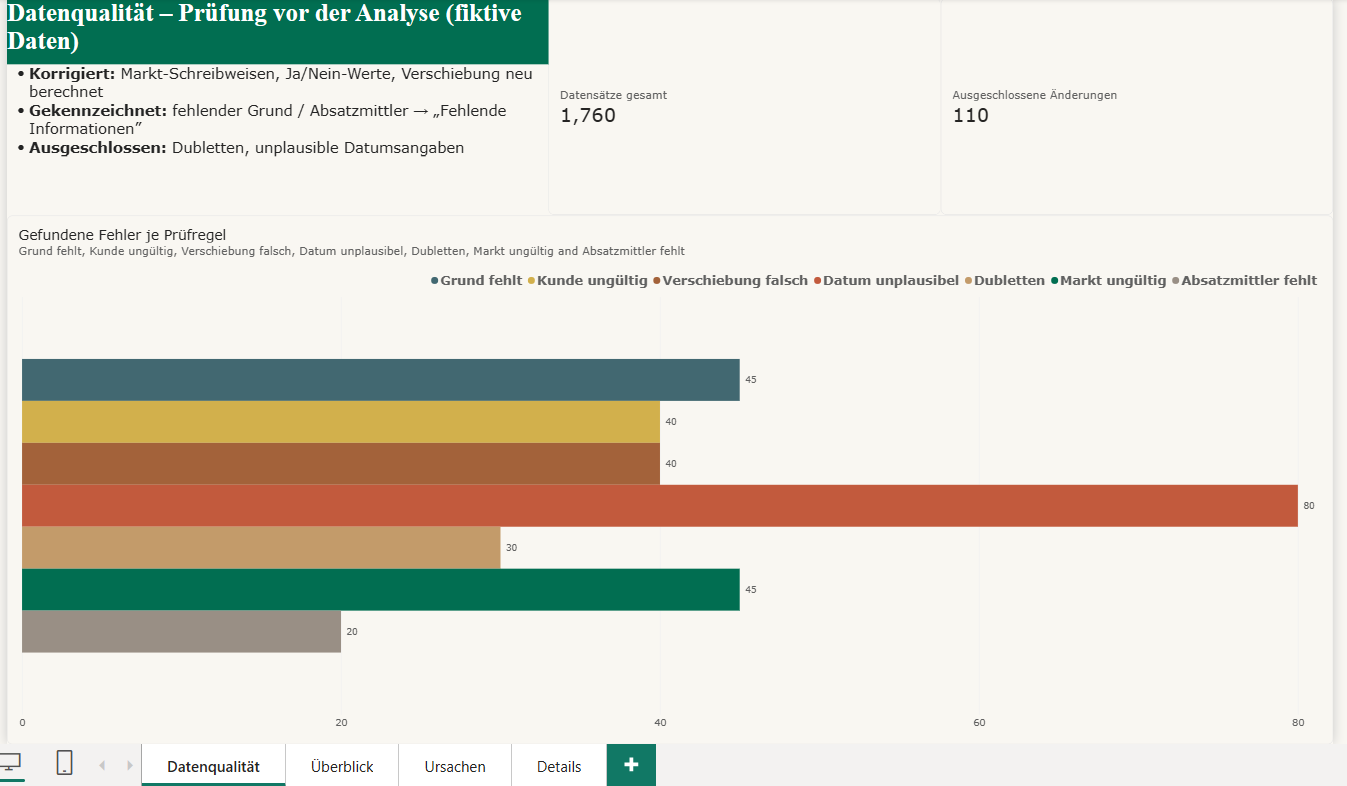

The dashboard page shown, as its layout file describes it:
{"tool":"powerbi","page":{"name":"Datenqualität","canvas":[1920,1080],"ordinal":0},"visuals":[{"type":"clusteredBarChart","title":"Gefundene Fehler je Prüfregel","fields":{"Y":["Terminaenderungen.Grund fehlt","Terminaenderungen.Kunde ungültig","Terminaenderungen.Verschiebung falsch","Terminaenderungen.Datum unplausibel","Terminaenderungen.Dubletten","Auftraege.Markt ungültig","Auftraege.Absatzmittler fehlt"]},"box":[0,314.9,1920.1,765.5],"z":0},{"type":"cardVisual","fields":{"Data":["Terminaenderungen.Datensätze gesamt"]},"box":[783.6,0,568.2,314.9],"z":1000},{"type":"cardVisual","fields":{"Data":["Terminaenderungen.Ausgeschlossene Änderungen"]},"box":[1351.8,0,568.2,314.9],"z":2000},{"type":"textbox","title":"Datenqualität – Prüfung vor der Analyse (fiktive Daten)","box":[0,0,784,315],"z":3000}]}

Visuals, with their boxes on the page's 1920x1080 design canvas (x1, y1, x2, y2). These are canvas units, not pixel positions in the 1347x786 screenshot, which may show the page scaled, cropped or inside an application window:
"Gefundene Fehler je Prüfregel" clusteredBarChart: (x1=0, y1=315, x2=1920, y2=1080)
cardVisual - Terminaenderungen.Datensätze gesamt: (x1=784, y1=0, x2=1352, y2=315)
cardVisual - Terminaenderungen.Ausgeschlossene Änderungen: (x1=1352, y1=0, x2=1920, y2=315)
"Datenqualität – Prüfung vor der Analyse (fiktive Daten)" textbox: (x1=0, y1=0, x2=784, y2=315)
